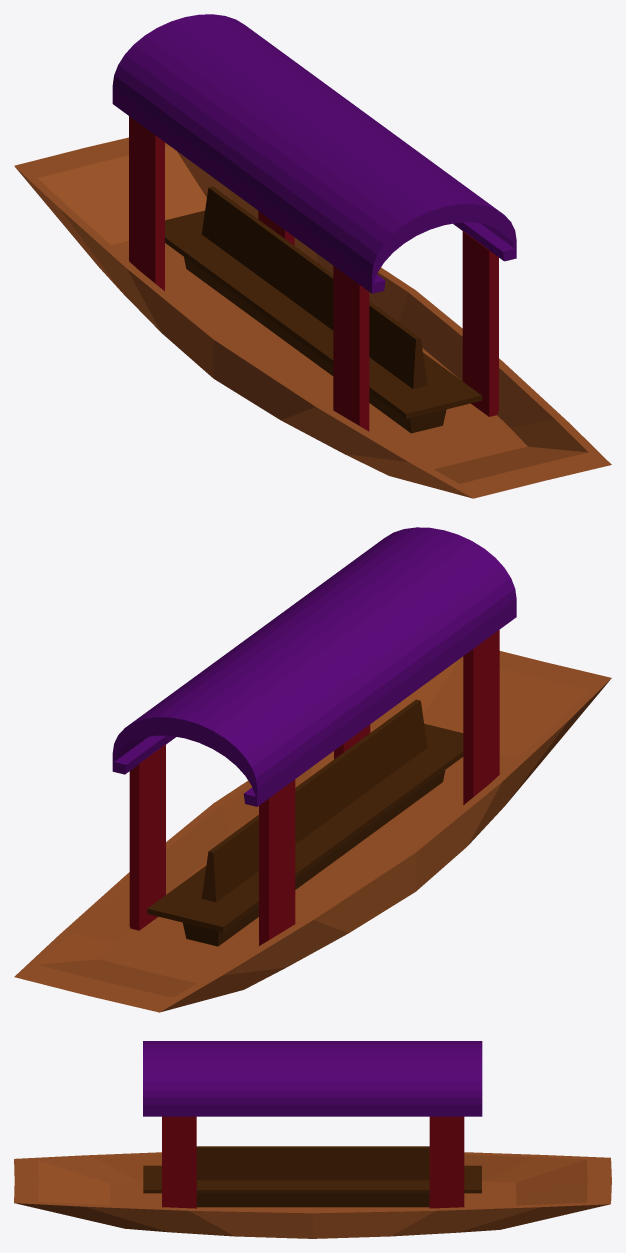
Rendered from Barca_1.fbx.
3 renders of one model, top to bottom at view 1: azimuth 30°, elevation 25°; view 2: azimuth 150°, elevation 25°; view 3: azimuth 270°, elevation 25°, orthographic. The views are drawn at different scales.
Visible parts, largest first — view 1: Barca, Plane; view 2: Barca, Plane; view 3: Barca, Plane.
Part boxes in pixels (x1,y1,x2,y2): Barca: [14, 14, 611, 498]; Plane: [165, 186, 481, 433]; Barca: [14, 527, 611, 1012]; Plane: [147, 699, 463, 946]; Barca: [14, 1041, 611, 1238]; Plane: [143, 1146, 481, 1207].
Size of the model in its own units: 200 by 229 by 782.
